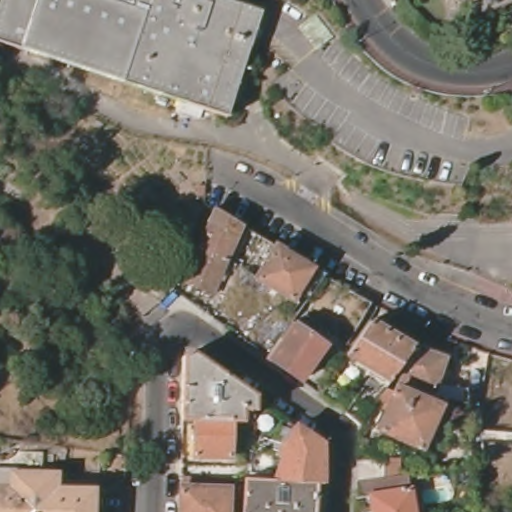pool: (418, 482, 455, 504)
